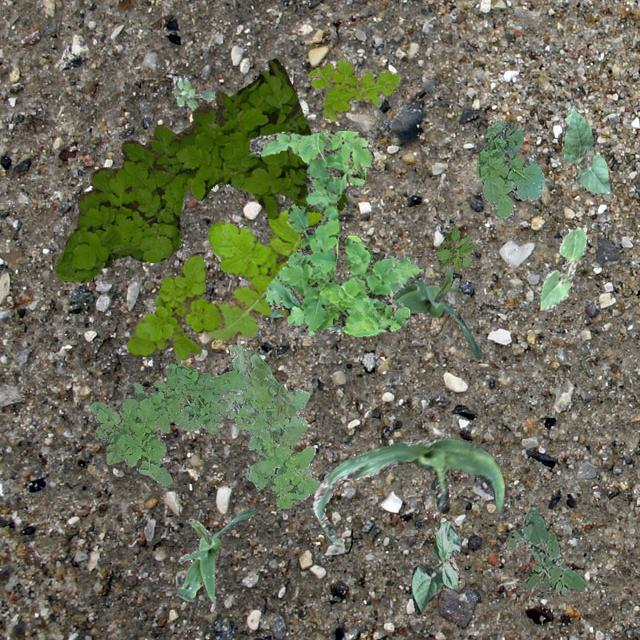crop: (312, 436, 508, 548), (390, 258, 480, 358), (176, 508, 254, 602), (410, 520, 460, 614), (560, 106, 612, 192), (540, 226, 586, 310), (262, 306, 341, 332)
weed: (54, 58, 346, 282), (248, 130, 424, 336), (88, 361, 246, 486), (220, 342, 320, 508), (205, 208, 321, 338), (126, 254, 224, 358), (502, 506, 588, 596), (476, 118, 544, 220), (306, 56, 399, 120), (434, 224, 474, 272), (170, 76, 216, 110)
